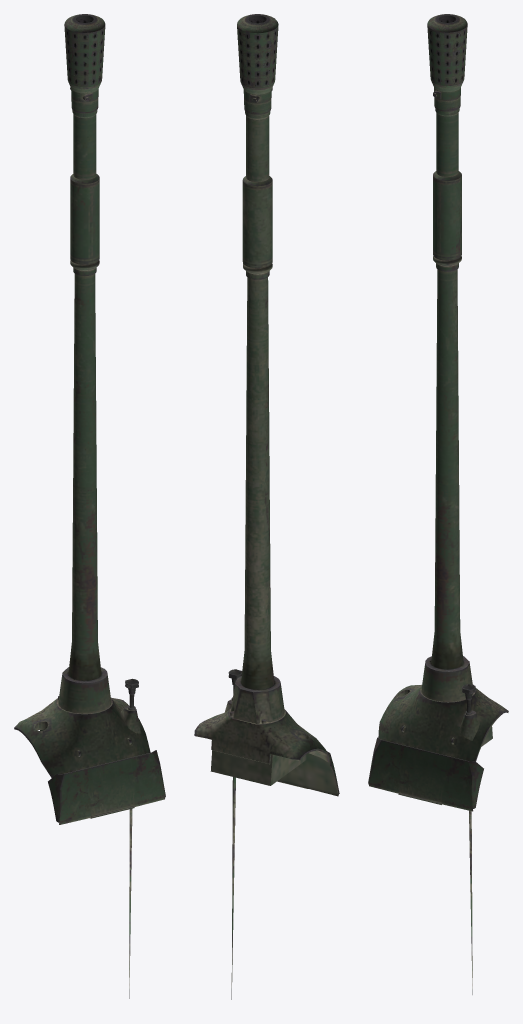
Rendered from Gun_05.glb.
3 renders of one model, left to right at view 1: azimuth 30°, elevation 25°; view 2: azimuth 150°, elevation 25°; view 3: azimuth 330°, elevation 25°, orthographic. The views are drawn at different scales.
Visible parts, largest first — view 1: set_0_group_0; view 2: set_0_group_0; view 3: set_0_group_0.
Boxes of the visible parts, bbox=[...] form: set_0_group_0: bbox=[14, 14, 165, 998]; set_0_group_0: bbox=[194, 14, 339, 999]; set_0_group_0: bbox=[368, 14, 508, 994].
Bounding box in the file's own units: 0.8703 × 7.43 × 0.6154.
Materials: 1 (1 with a texture image).
